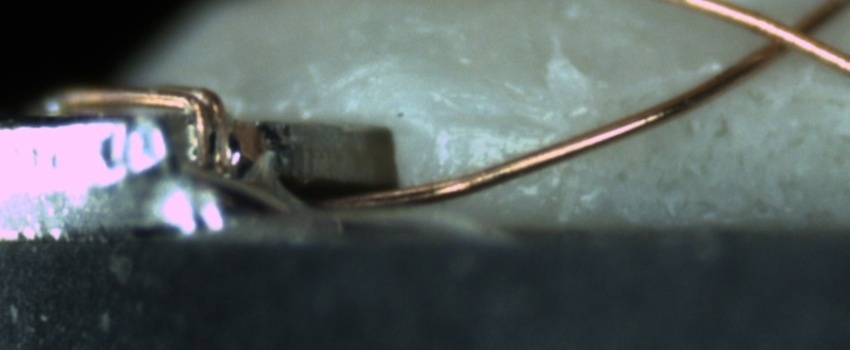CL: (741, 2, 840, 67)
DL: (436, 93, 576, 152)
TE: (38, 70, 233, 191)
